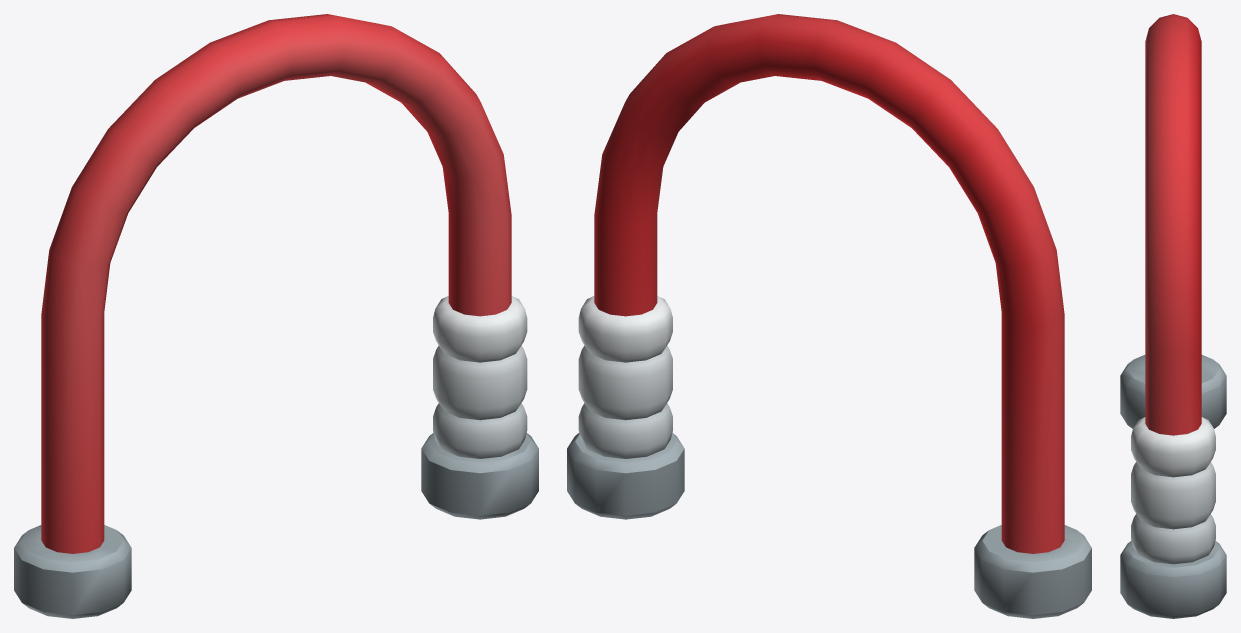
File: arch_red.glb
3 renders of one model, left to right at view 1: azimuth 30°, elevation 25°; view 2: azimuth 150°, elevation 25°; view 3: azimuth 270°, elevation 25°, orthographic. The views are drawn at different scales.
Visible parts, largest first — view 1: arch_red; view 2: arch_red; view 3: arch_red.
Part boxes in pixels (x1=…): arch_red: x1=14, y1=14, x2=538, y2=618; arch_red: x1=567, y1=14, x2=1091, y2=618; arch_red: x1=1120, y1=14, x2=1226, y2=618.
Size of the model in its own units: 3.75 by 3.7 by 0.75.
1 material, 1 textured.
